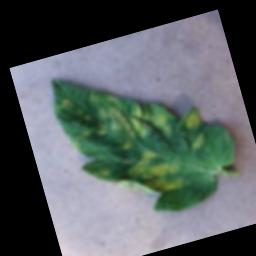Leaf_Mold: (58, 71, 176, 164), (120, 141, 189, 202), (182, 105, 204, 132), (188, 130, 208, 150)
